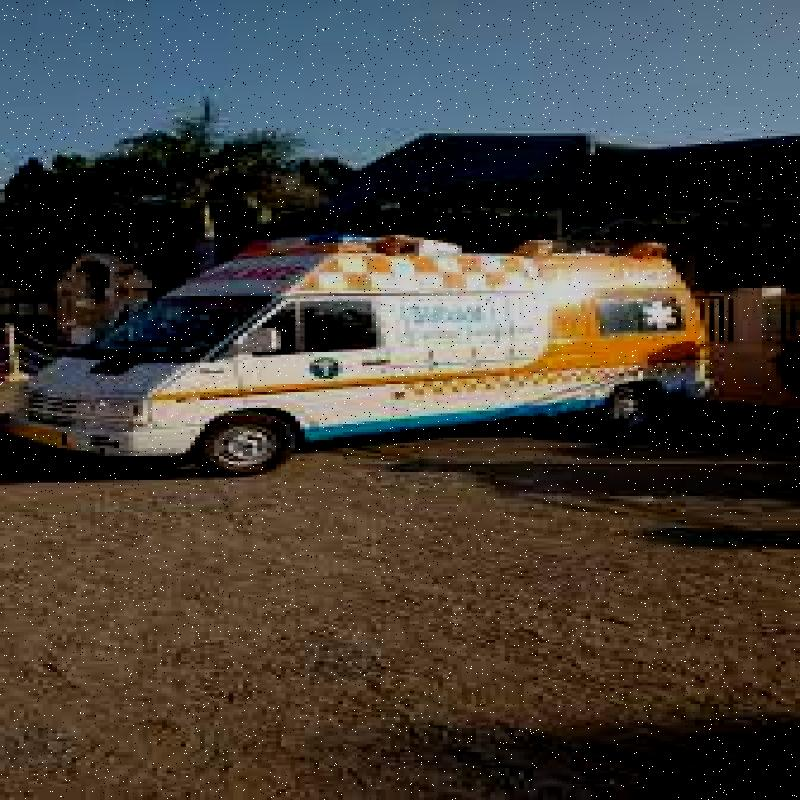ambulance: (52, 232, 674, 465)
